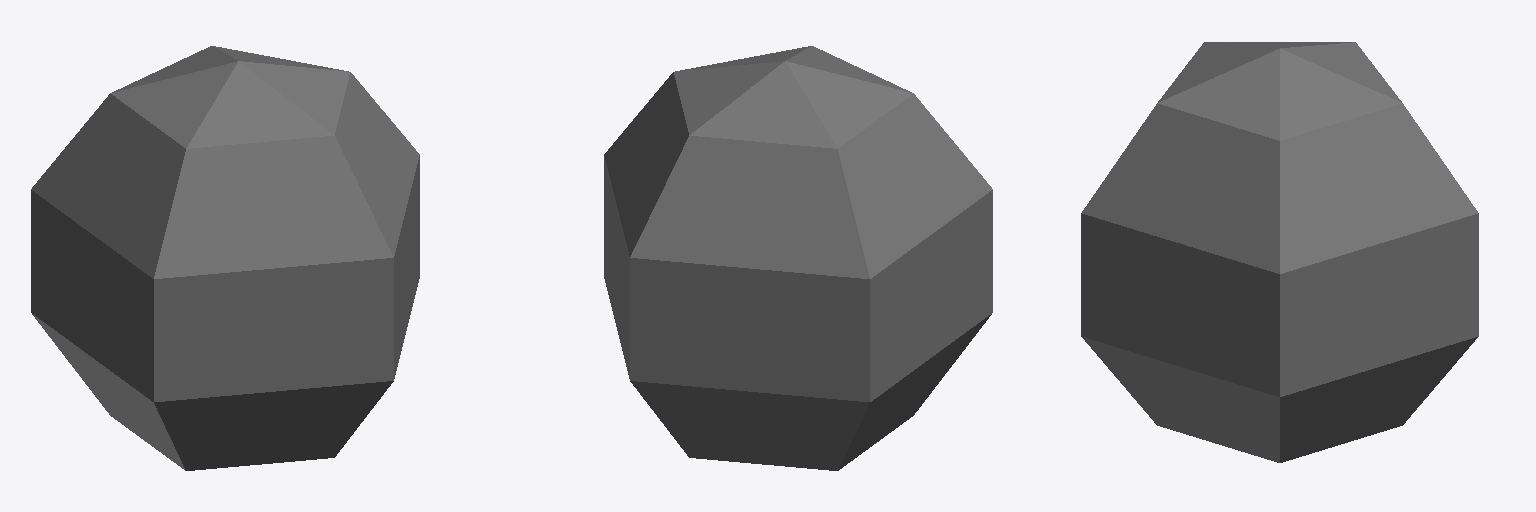
Rendered from Drone_Bullet_1.obj.
The picture shows the model from 3 angles: view 1: azimuth 30°, elevation 25°; view 2: azimuth 150°, elevation 25°; view 3: azimuth 270°, elevation 25°; orthographic projection.
Parts seen in each view (by area): view 1: pSphere1; view 2: pSphere1; view 3: pSphere1.
Boxes of the visible parts, x1=… form: pSphere1: x1=31, y1=46, x2=419, y2=470; pSphere1: x1=604, y1=46, x2=992, y2=470; pSphere1: x1=1081, y1=42, x2=1478, y2=462.
Bounding box in the file's own units: 0.3627 × 0.4216 × 0.3813.